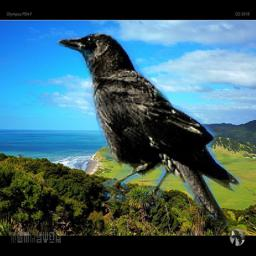Crow: (49, 30, 242, 225)
